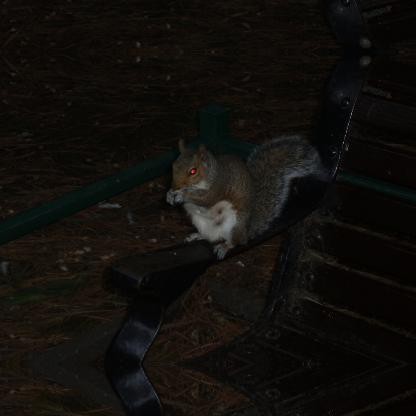Squirrel: (165, 129, 322, 259)
